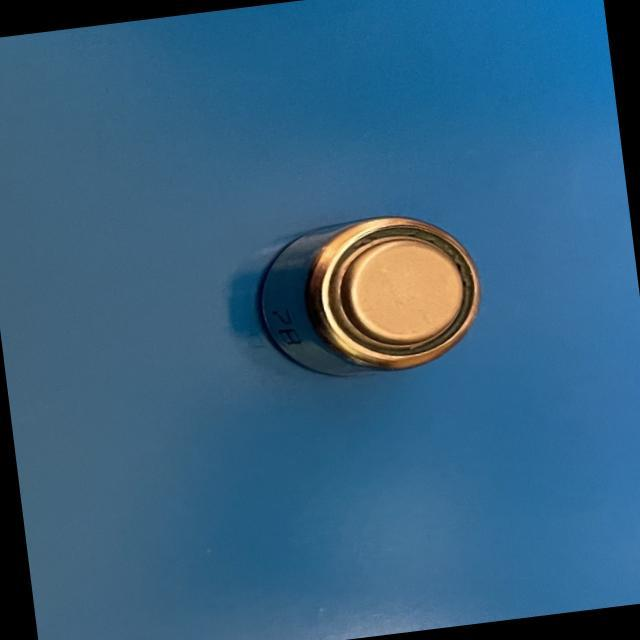COIN: (250, 207, 490, 386)
